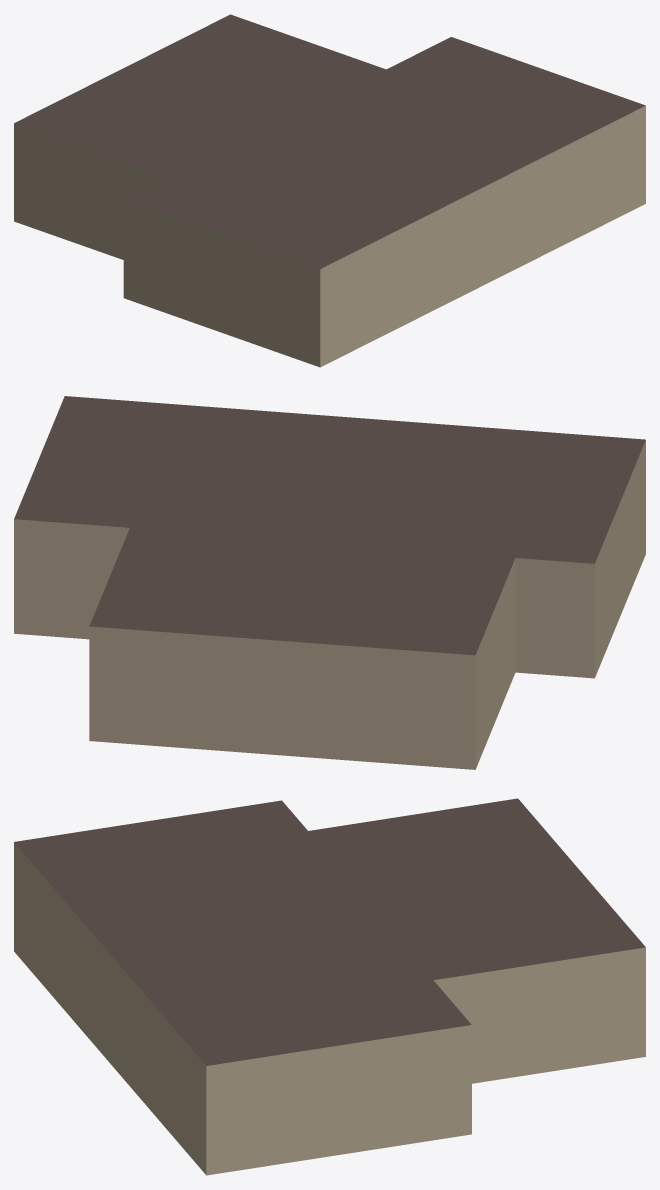
The picture shows the model from 3 angles, top to bottom: view 1: azimuth 30°, elevation 25°; view 2: azimuth 150°, elevation 25°; view 3: azimuth 270°, elevation 25°; orthographic projection. The views are drawn at different scales.
Visible parts, largest first — view 1: HP-w494956624; view 2: HP-w494956624; view 3: HP-w494956624.
Part boxes in pixels (bbox=[...]): HP-w494956624: bbox=[14, 14, 645, 367]; HP-w494956624: bbox=[14, 396, 645, 769]; HP-w494956624: bbox=[14, 798, 645, 1175].
Size of the model in its own units: 31.45 by 6 by 31.39.
